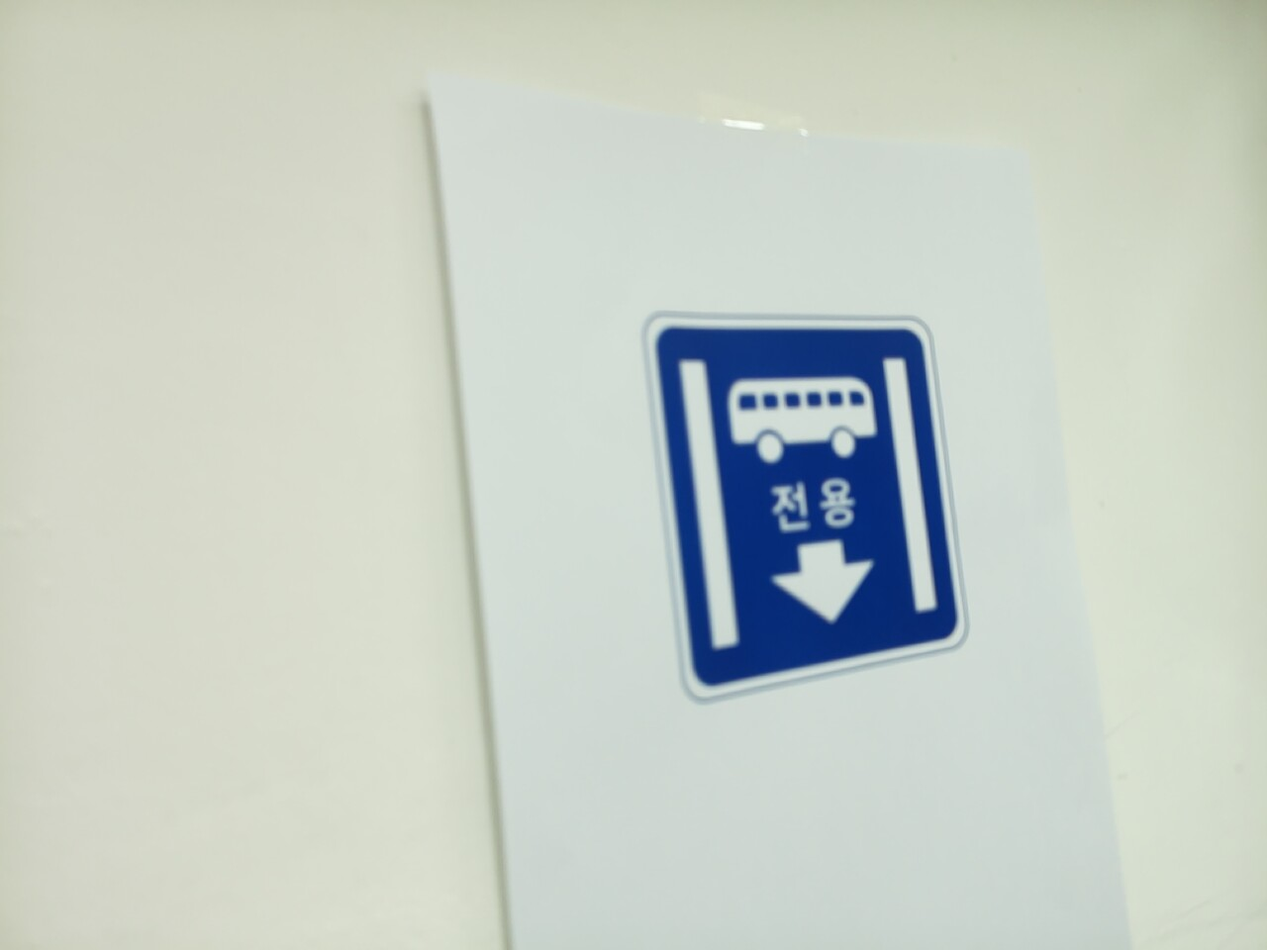bus_only_lane: (645, 316, 967, 697)
